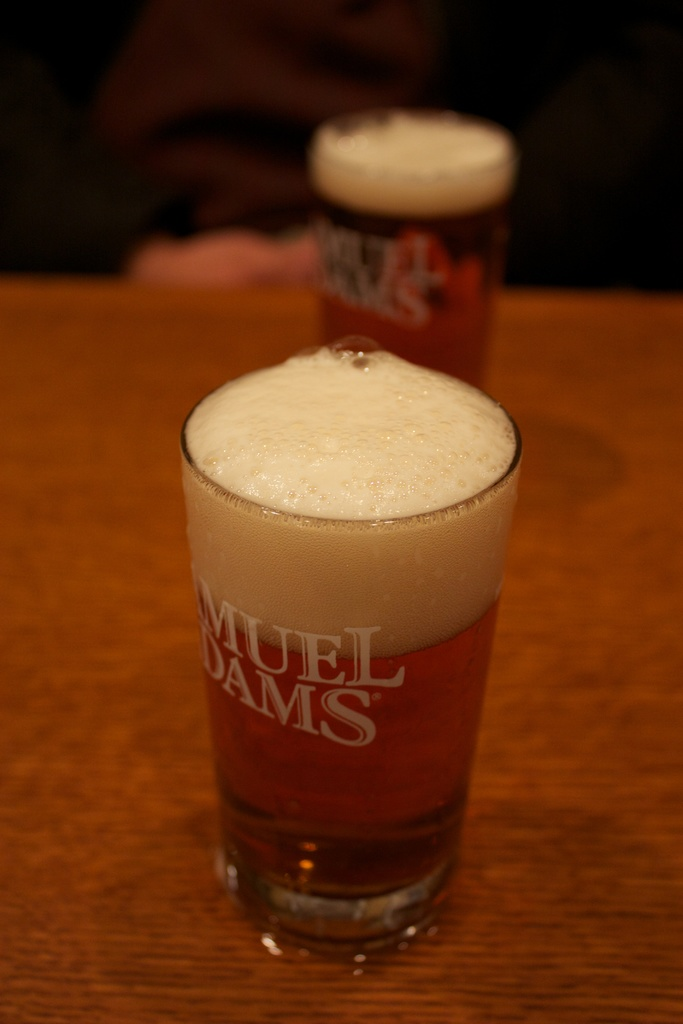Beer: (174, 336, 522, 956), (308, 92, 517, 405)
